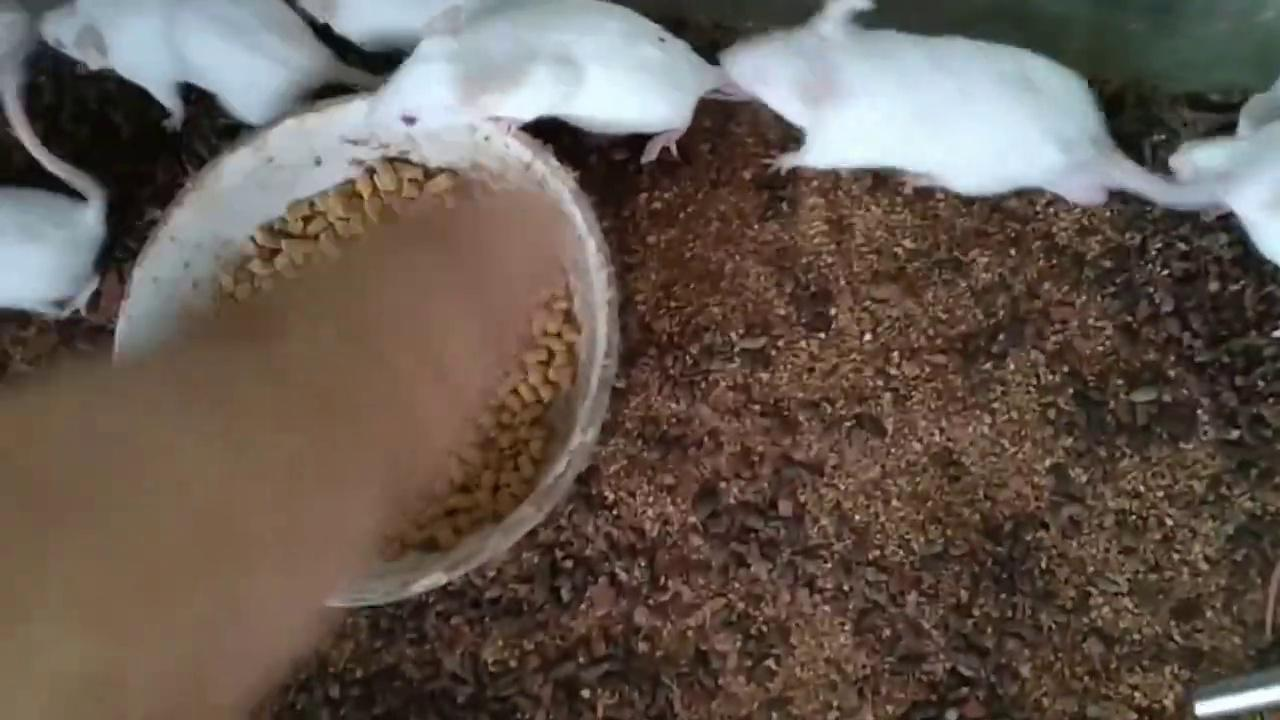rat: (721, 1, 1173, 206), (370, 2, 716, 160), (40, 1, 363, 124)
